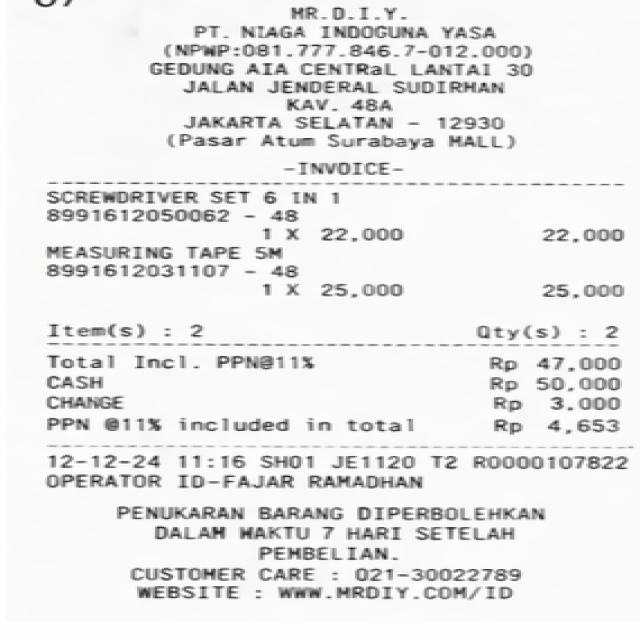date: (43, 451, 250, 472)
store: (278, 2, 412, 24)
total: (37, 350, 629, 372)
